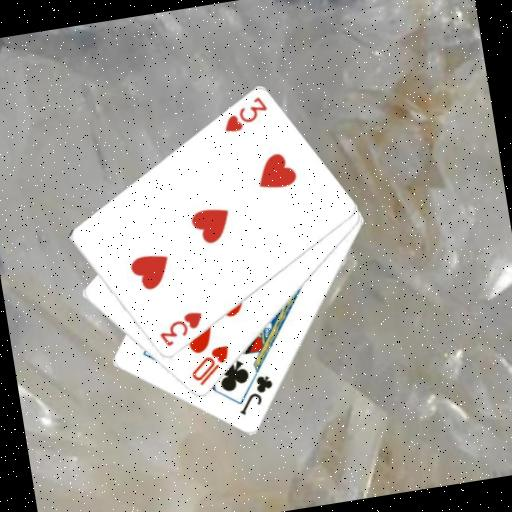10H: (184, 341, 235, 389)
3H: (217, 93, 272, 136), (152, 308, 207, 350)
JC: (231, 371, 279, 418)
